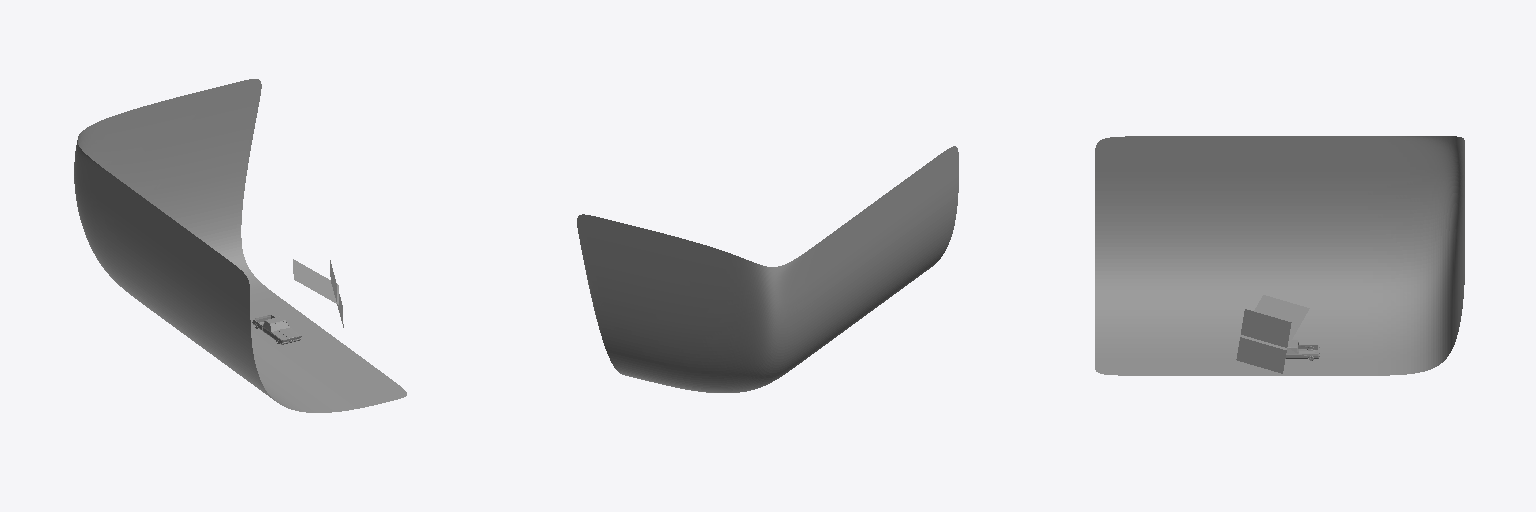
File: LowPolyPickup.obj
3 views of the same model, side by side, from view 1: azimuth 30°, elevation 25°; view 2: azimuth 150°, elevation 25°; view 3: azimuth 270°, elevation 25° (orthographic).
Parts seen in each view (by area): view 1: Plane.001, Plane; view 2: none; view 3: Plane.002, Plane.001.
Boxes of the visible parts, box(x1,y1,x2,y2) form: Plane.001: box(293, 259, 338, 304); Plane: box(252, 314, 301, 344); Plane.002: box(1236, 309, 1291, 373); Plane.001: box(1240, 295, 1309, 349).
Bounding box in the file's own units: 69.62 × 59.49 × 114.